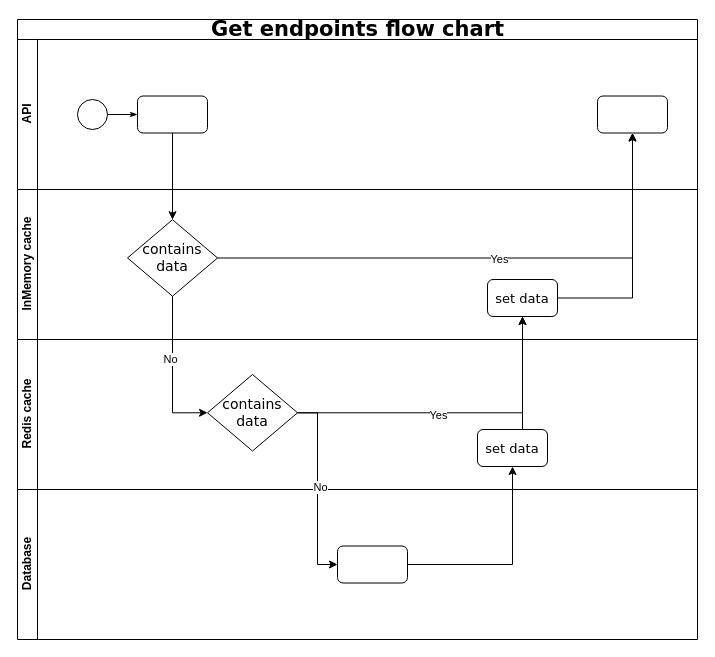
The diagram is 715 pixels wide and 657 high, and some of its shapes have lost their labels. Each missing label, with the centre of its shape:
"get data" goes at point 372,564.
"request" goes at point 172,114.
"response" goes at point 632,114.
